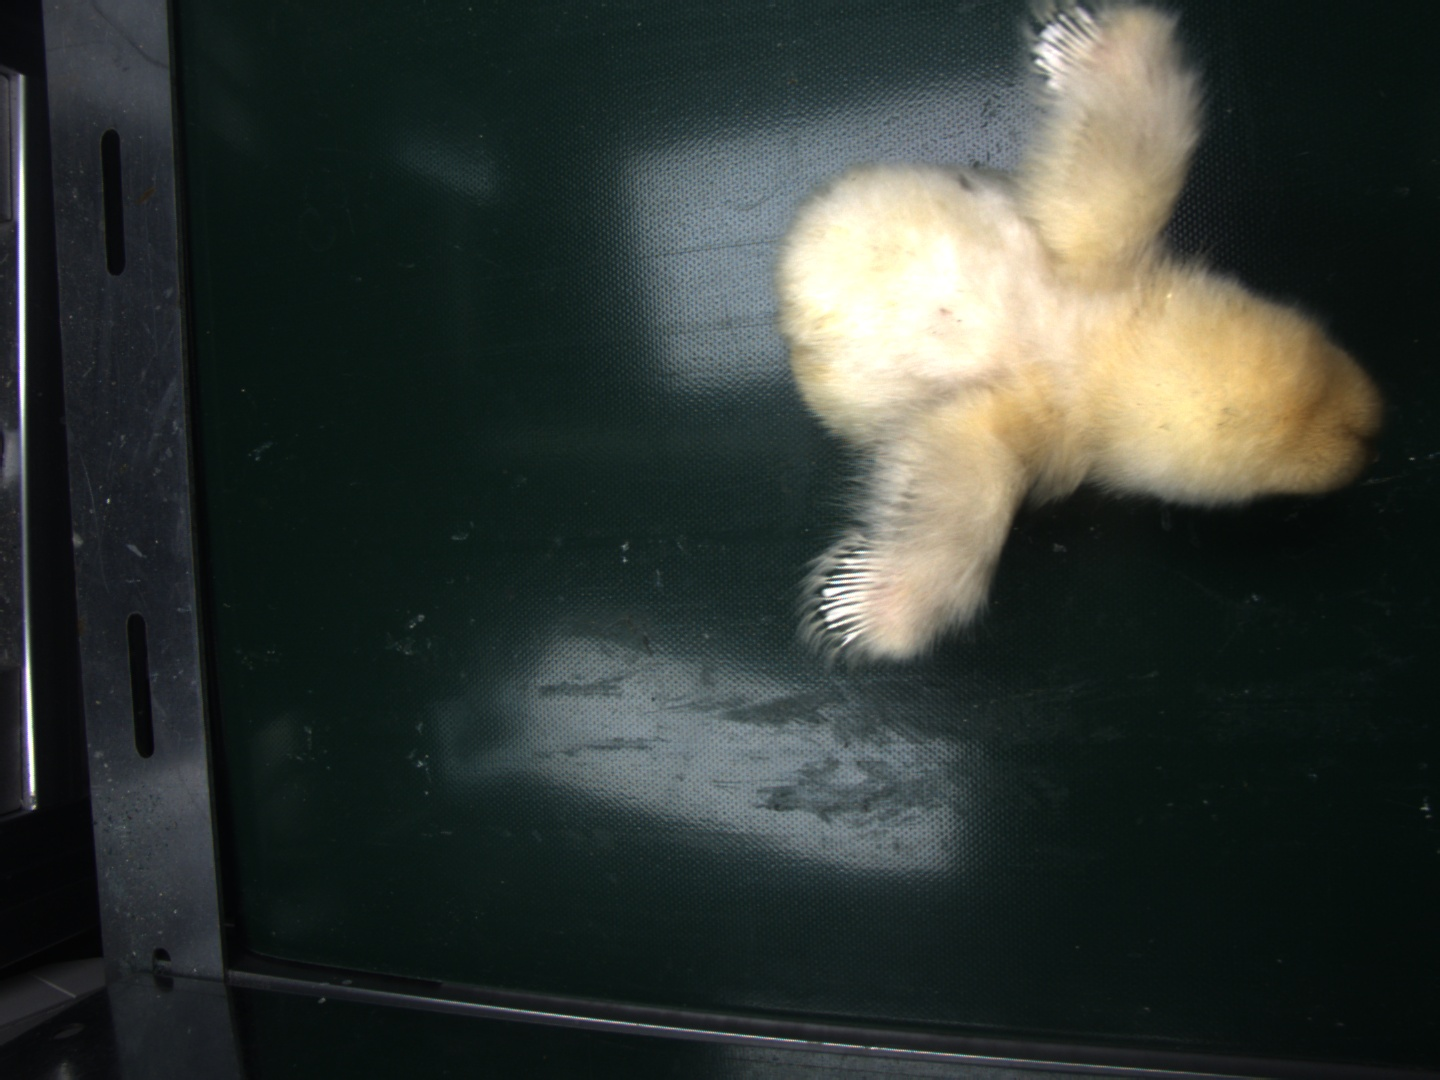male: (821, 542, 882, 648)
